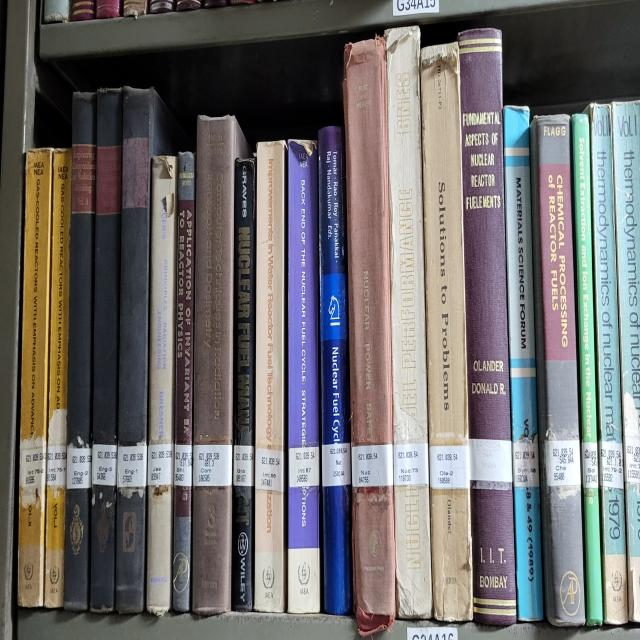Book: (115, 87, 182, 614), (458, 27, 516, 625), (344, 38, 395, 636), (420, 43, 472, 622), (192, 116, 250, 614), (384, 27, 432, 620), (530, 114, 585, 628), (589, 106, 628, 625), (504, 108, 542, 622), (64, 92, 98, 611), (90, 89, 122, 611), (319, 127, 352, 614), (571, 114, 602, 625), (18, 149, 52, 609), (288, 141, 320, 614), (611, 103, 640, 620), (146, 154, 178, 614), (255, 141, 286, 611), (44, 149, 71, 609), (172, 152, 196, 611), (232, 160, 255, 611)
Label: (469, 438, 512, 484), (351, 444, 394, 487), (429, 444, 469, 490), (192, 444, 232, 487), (546, 441, 581, 487), (394, 444, 429, 487), (512, 436, 539, 487), (255, 446, 284, 492), (118, 444, 148, 487), (322, 444, 351, 487), (289, 446, 319, 487), (600, 441, 624, 490), (92, 444, 118, 487), (148, 444, 174, 487), (66, 446, 91, 490), (21, 446, 46, 487), (232, 444, 254, 487), (581, 441, 599, 490), (174, 444, 192, 487), (48, 446, 66, 487), (625, 436, 640, 484)
